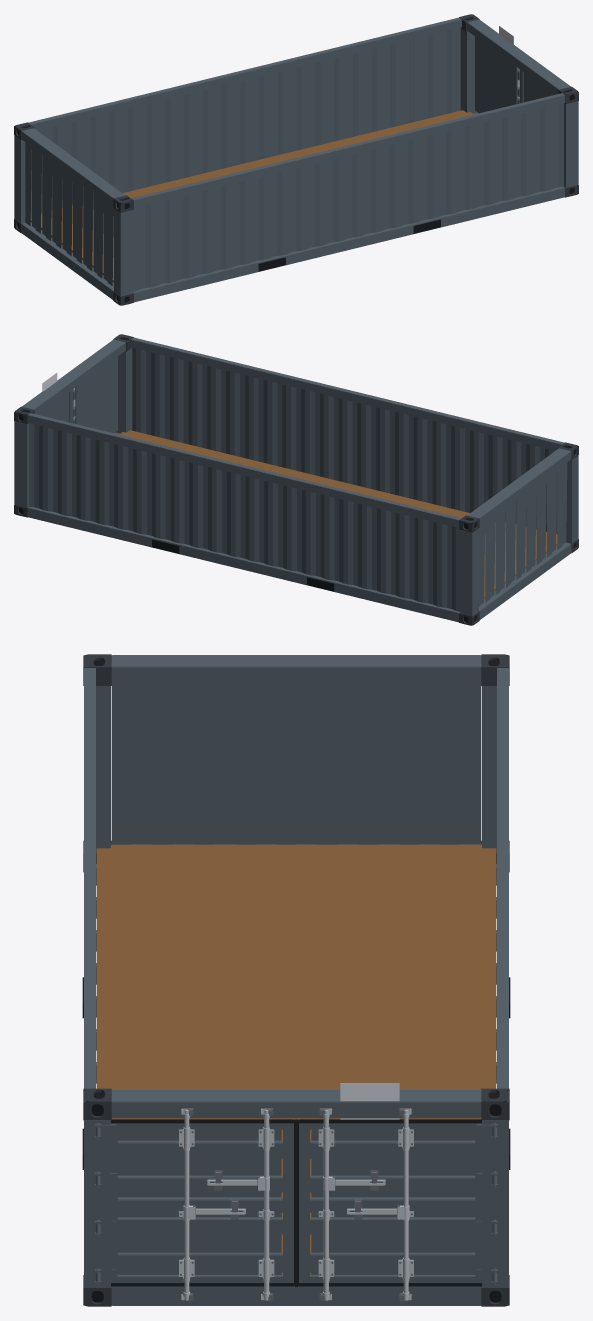
Rendered from iso_20ft_hh_28u1.obj.
3 views of the same model, one above another, from view 1: azimuth 30°, elevation 25°; view 2: azimuth 150°, elevation 25°; view 3: azimuth 270°, elevation 25° (orthographic). The views are drawn at different scales.
Visible parts, largest first — view 1: 04_Corrugated_Corten_Panels, 02_Structural_Frame_Rails, 03_Marine_Wood_Floor, 06_Corrugated_Rear_Doors, 01_ISO_Corner_Castings_Hollow3D, 01_ISO_Corner_Castings_Hollow3D_Cavity; view 2: 04_Corrugated_Corten_Panels, 02_Structural_Frame_Rails, 03_Marine_Wood_Floor, 06_Corrugated_Rear_Doors, 01_ISO_Corner_Castings_Hollow3D, 01_ISO_Corner_Castings_Hollow3D_Cavity; view 3: 03_Marine_Wood_Floor, 04_Corrugated_Corten_Panels, 06_Corrugated_Rear_Doors, 02_Structural_Frame_Rails, 07_Galvanized_Locking_Hardware, 01_ISO_Corner_Castings_Hollow3D, 05_Door_Rubber_Gaskets_Beveled, 08_CSC_Safety_Data_Plate, 01_ISO_Corner_Castings_Hollow3D_Cavity.
Part boxes in pixels (<box>): 04_Corrugated_Corten_Panels: <box>25,27,563,291</box>; 02_Structural_Frame_Rails: <box>14,17,578,302</box>; 03_Marine_Wood_Floor: <box>30,110,473,282</box>; 06_Corrugated_Rear_Doors: <box>475,36,554,113</box>; 01_ISO_Corner_Castings_Hollow3D: <box>14,14,578,305</box>; 01_ISO_Corner_Castings_Hollow3D_Cavity: <box>17,18,573,302</box>; 04_Corrugated_Corten_Panels: <box>29,347,567,611</box>; 02_Structural_Frame_Rails: <box>14,337,578,622</box>; 03_Marine_Wood_Floor: <box>119,430,557,598</box>; 06_Corrugated_Rear_Doors: <box>38,356,117,433</box>; 01_ISO_Corner_Castings_Hollow3D: <box>14,334,578,625</box>; 01_ISO_Corner_Castings_Hollow3D_Cavity: <box>19,338,575,622</box>; 03_Marine_Wood_Floor: <box>96,844,496,1274</box>; 04_Corrugated_Corten_Panels: <box>111,683,481,844</box>; 06_Corrugated_Rear_Doors: <box>95,1119,497,1283</box>; 02_Structural_Frame_Rails: <box>84,655,508,1305</box>; 07_Galvanized_Locking_Hardware: <box>95,1108,497,1301</box>; 01_ISO_Corner_Castings_Hollow3D: <box>83,654,509,1306</box>; 05_Door_Rubber_Gaskets_Beveled: <box>111,1119,481,1286</box>; 08_CSC_Safety_Data_Plate: <box>340,1083,399,1119</box>; 01_ISO_Corner_Castings_Hollow3D_Cavity: <box>82,660,510,1302</box>.
Size of the model in its own units: 6.08 by 1.4 by 2.45.
